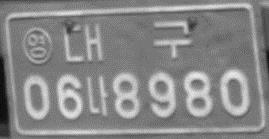0: (219, 66, 251, 117), (23, 73, 50, 121)
6: (56, 72, 84, 119)
8: (183, 70, 215, 118), (112, 70, 142, 120)
9: (148, 70, 178, 119)
나: (86, 73, 110, 118)
대구_D: (61, 19, 193, 66)
영: (21, 25, 54, 65)
